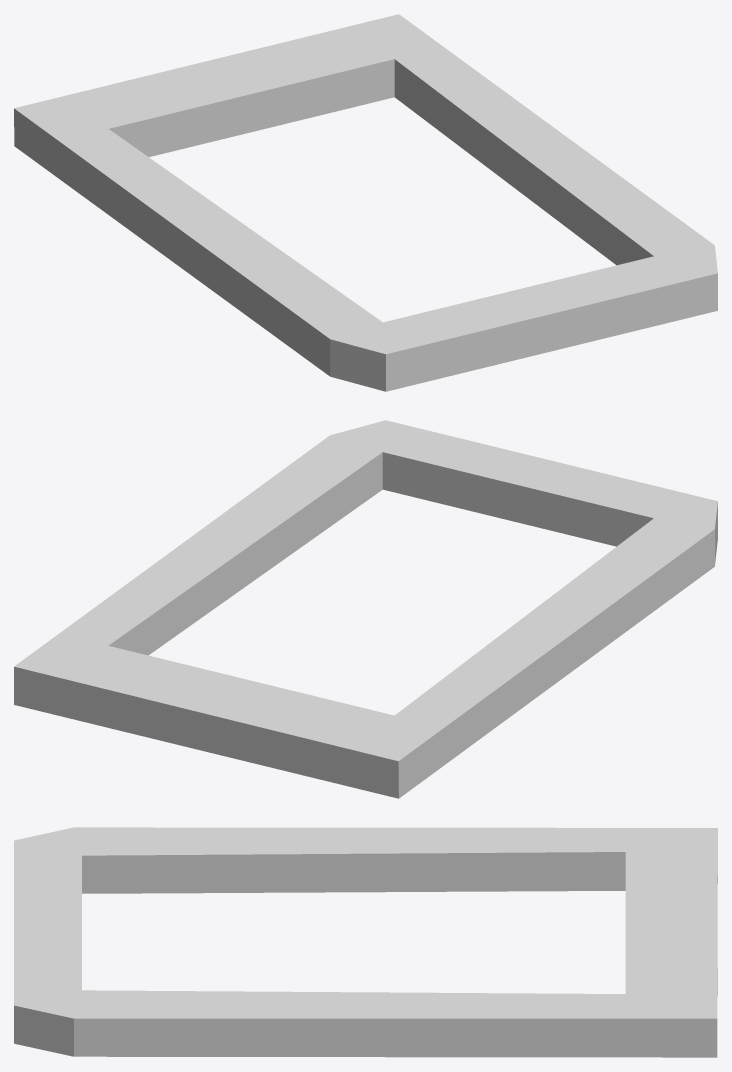
Rendered from Itr_Obj_Toilet_Cap2_01.FBX.
3 renders of one model, top to bottom at view 1: azimuth 30°, elevation 25°; view 2: azimuth 150°, elevation 25°; view 3: azimuth 270°, elevation 25°, orthographic.
Parts seen in each view (by area): view 1: Itr_Obj_Toilet_Cap2_01; view 2: Itr_Obj_Toilet_Cap2_01; view 3: Itr_Obj_Toilet_Cap2_01.
Part boxes in pixels (x1,y1,x2,y2): Itr_Obj_Toilet_Cap2_01: (14,14,717,391); Itr_Obj_Toilet_Cap2_01: (14,420,717,798); Itr_Obj_Toilet_Cap2_01: (14,827,717,1057).
Size of the model in its own units: 12.05 by 1.14 by 18.75.
